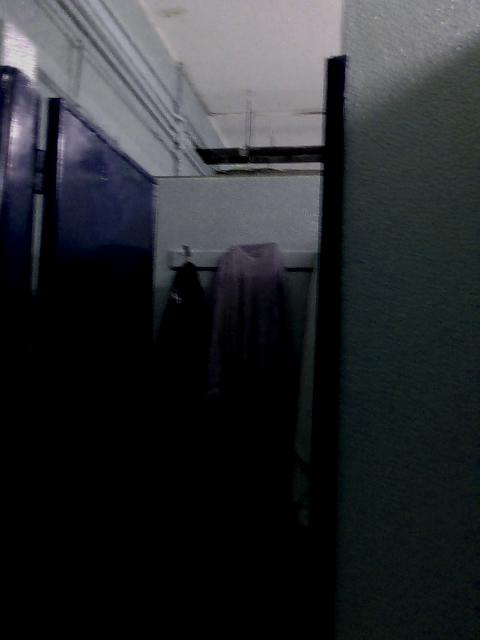open_door: (5, 41, 348, 639)
